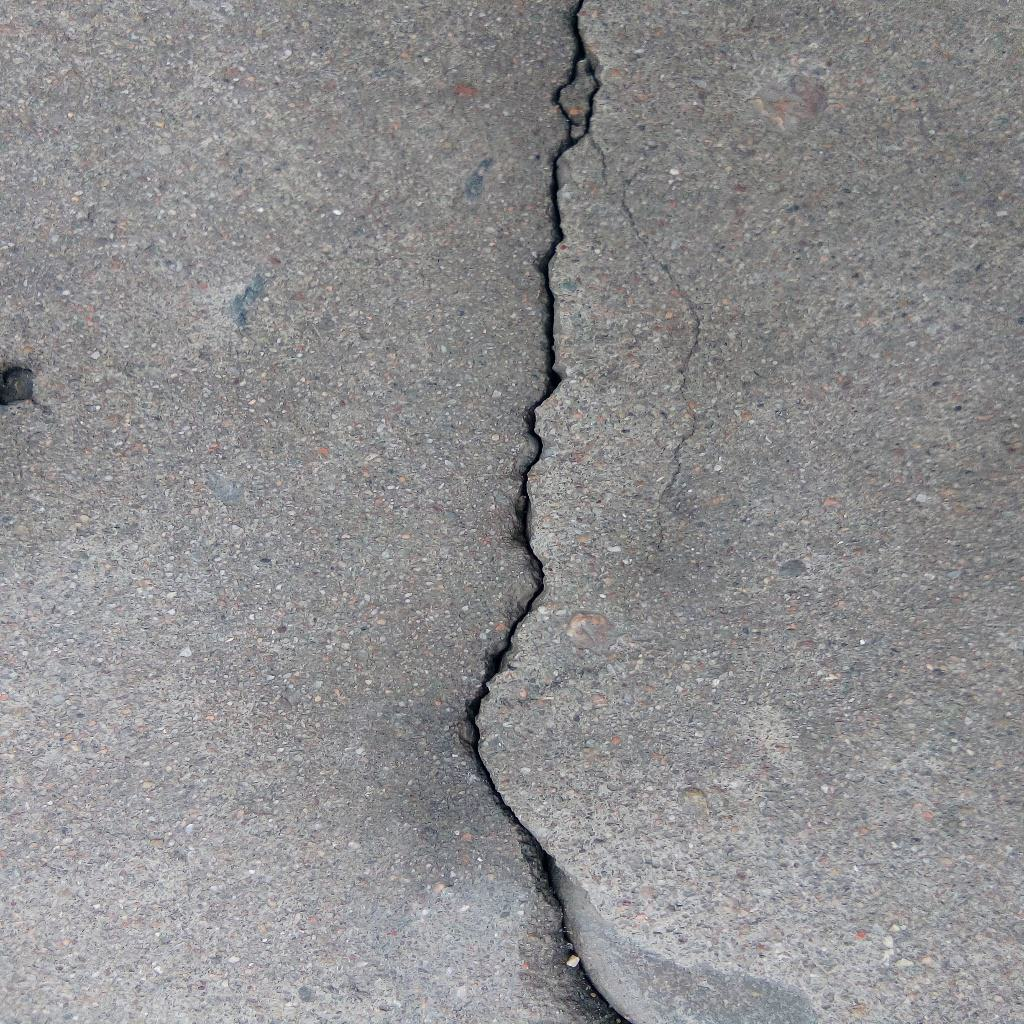Crack: (455, 1, 636, 1024), (587, 136, 702, 550)
Spalling: (1, 364, 35, 408)
